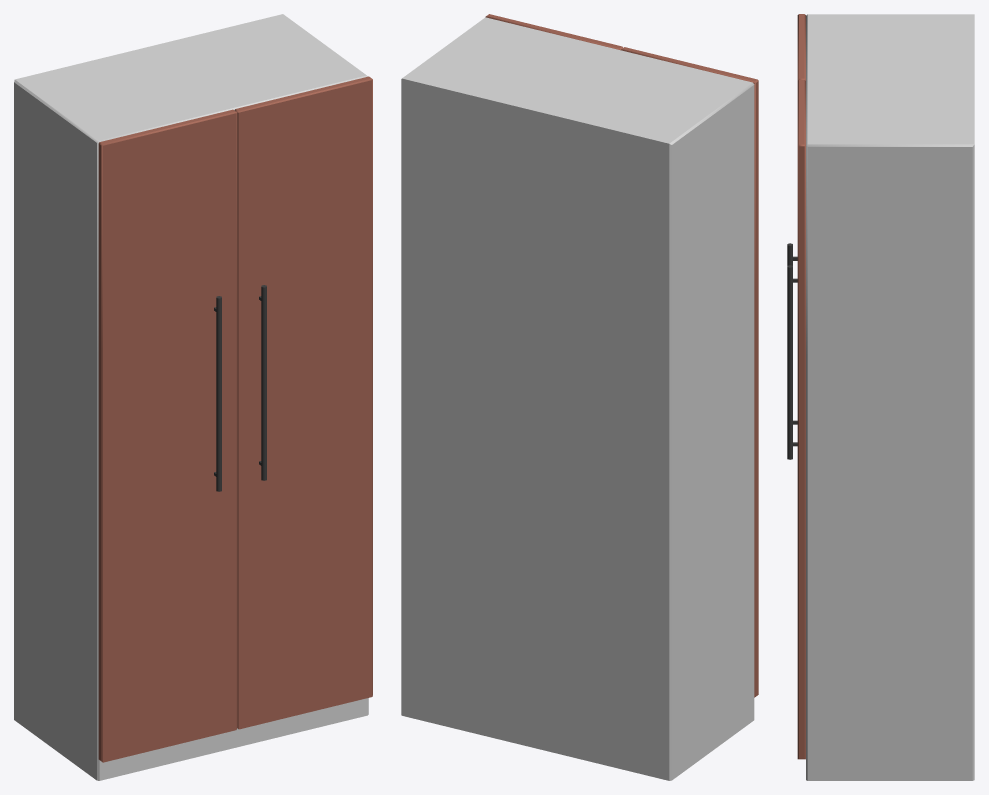
3 renders of one model, left to right at view 1: azimuth 30°, elevation 25°; view 2: azimuth 150°, elevation 25°; view 3: azimuth 270°, elevation 25°, orthographic.
Visible parts, largest first — view 1: MQ011; view 2: MQ011; view 3: MQ011.
Part boxes in pixels (bbox=[...]): MQ011: bbox=[14, 14, 372, 780]; MQ011: bbox=[401, 14, 758, 780]; MQ011: bbox=[787, 14, 974, 780].
Bounding box in the file's own units: 100 × 60 × 225.
